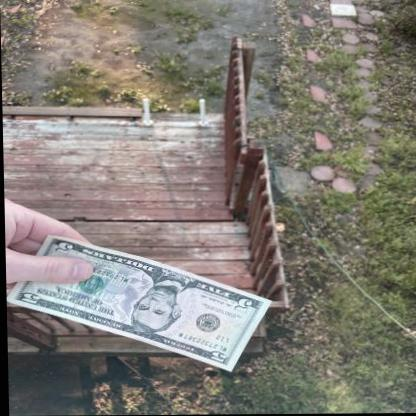five-front: (5, 234, 271, 373)
